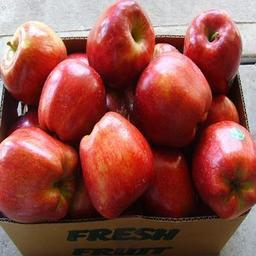apple: (77, 113, 155, 221), (1, 128, 78, 224), (135, 52, 211, 148), (191, 122, 256, 220), (86, 1, 156, 92), (37, 60, 105, 145), (2, 21, 68, 108), (180, 7, 242, 96)
